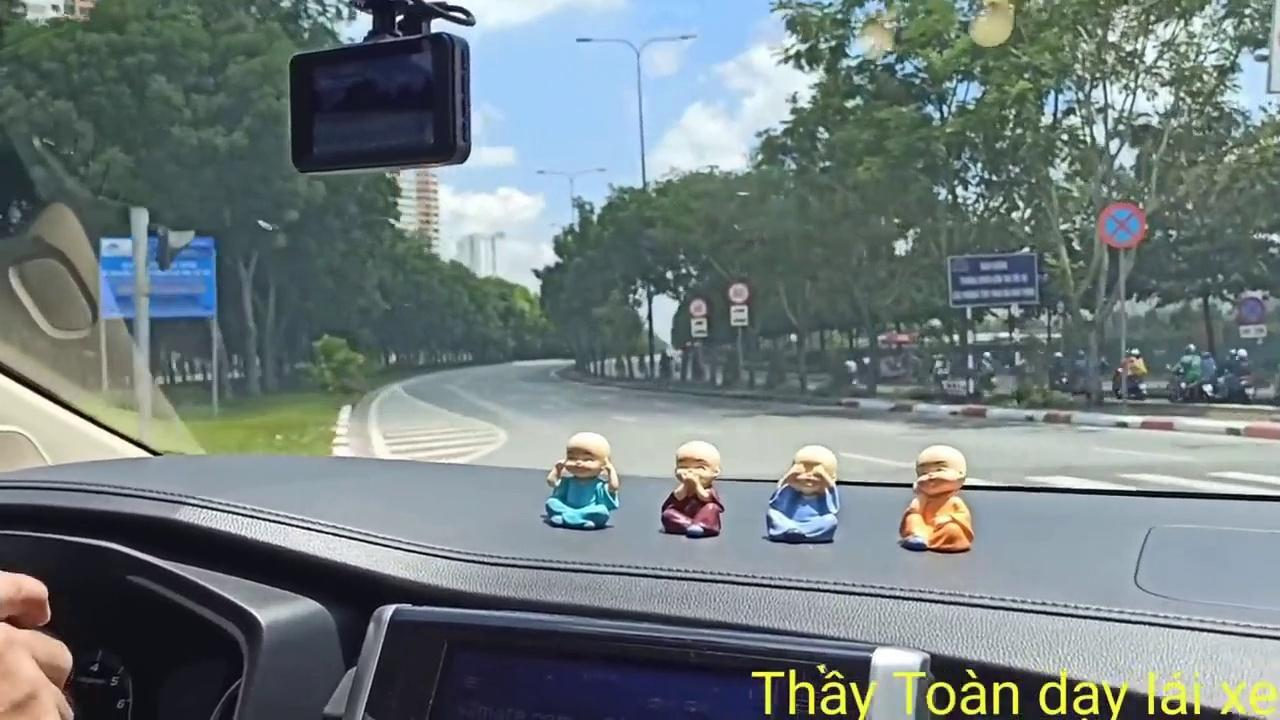Biển phụ: (729, 303, 749, 327), (691, 317, 708, 338)
Cấm dừng - Cấm đỗ: (1095, 198, 1147, 252), (1238, 295, 1268, 326)
Khác: (98, 231, 218, 322)
